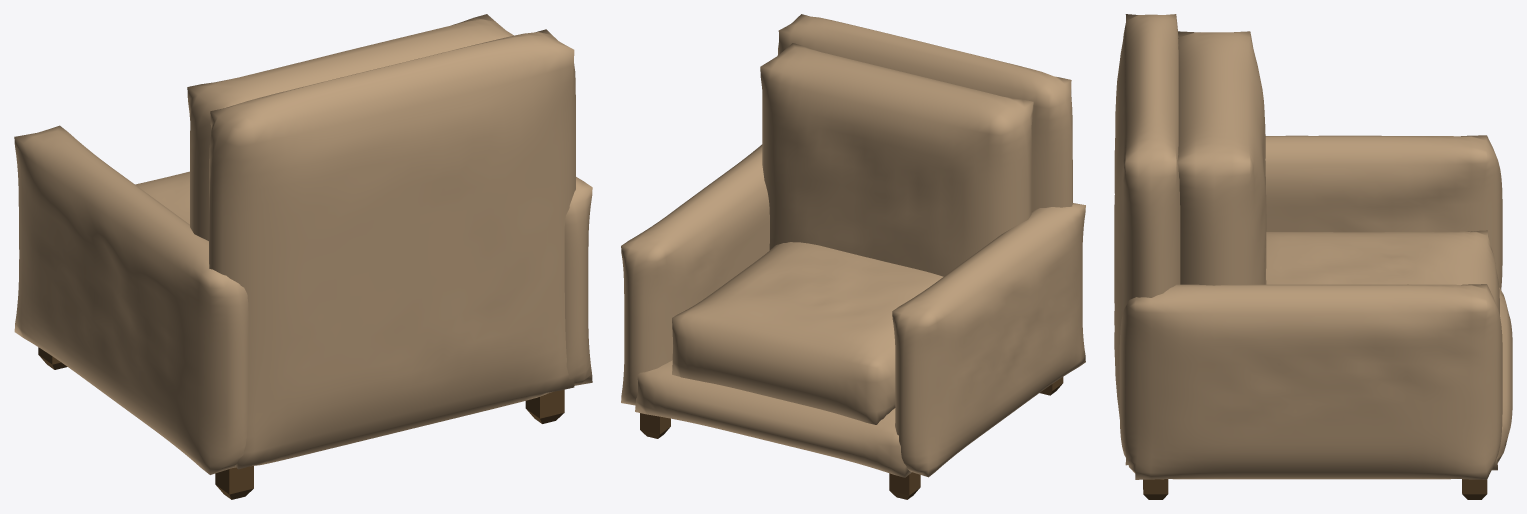
File: smallcouch.glb
The picture shows the model from 3 angles, left to right: view 1: azimuth 30°, elevation 25°; view 2: azimuth 150°, elevation 25°; view 3: azimuth 270°, elevation 25°; orthographic projection. The views are drawn at different scales.
Parts seen in each view (by area): view 1: Armchair; view 2: Armchair; view 3: Armchair.
Boxes of the visible parts, x1,y1,x2,y2 form: Armchair: (14, 14, 592, 499); Armchair: (621, 14, 1085, 499); Armchair: (1114, 14, 1512, 499).
Bounding box in the file's own units: 3.13 × 2.92 × 2.97.
1 material, 1 textured.
